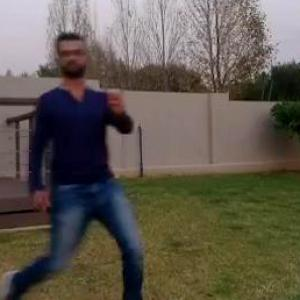takeoff-hand: (100, 76, 131, 112)
